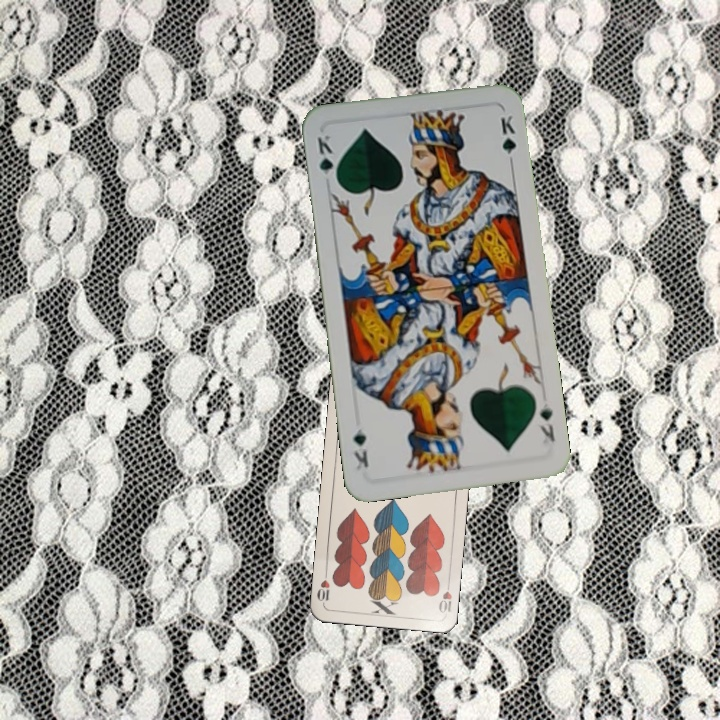GK: (313, 131, 340, 187), (535, 399, 558, 445)
H10: (435, 576, 454, 616)
